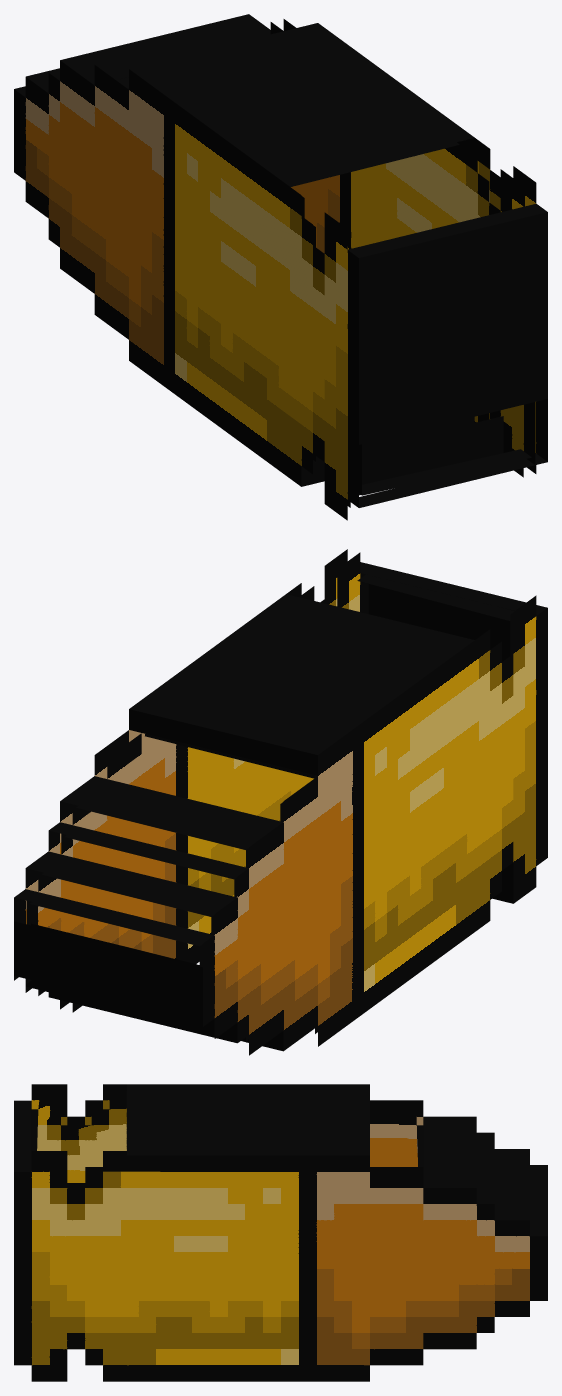
File: Bullet.fbx
The picture shows the model from 3 angles, top to bottom: view 1: azimuth 30°, elevation 25°; view 2: azimuth 150°, elevation 25°; view 3: azimuth 270°, elevation 25°; orthographic projection. The views are drawn at different scales.
Visible parts, largest first — view 1: Bullet ak47; view 2: Bullet ak47; view 3: Bullet ak47.
Part boxes in pixels (bbox=[...]): Bullet ak47: bbox=[14, 14, 547, 520]; Bullet ak47: bbox=[14, 549, 547, 1055]; Bullet ak47: bbox=[14, 1084, 547, 1381].
Size of the model in its own units: 29.65 by 43.78 by 93.76.
